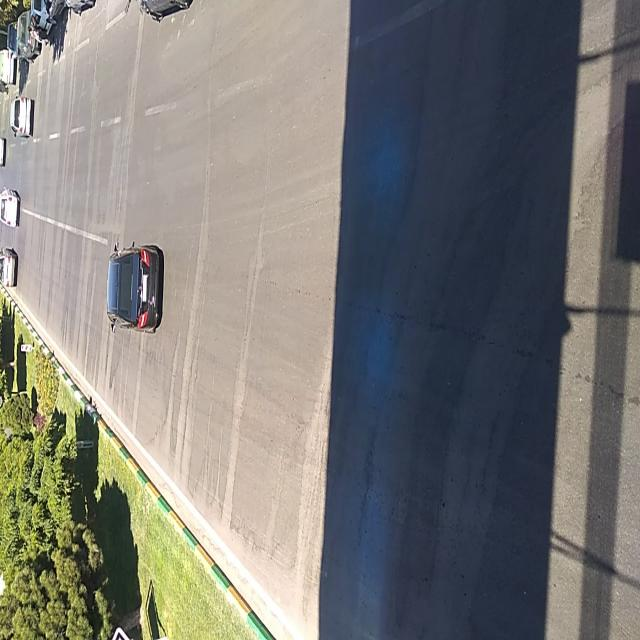car: (104, 241, 164, 334), (8, 97, 32, 132), (2, 187, 18, 230), (1, 246, 17, 285)
